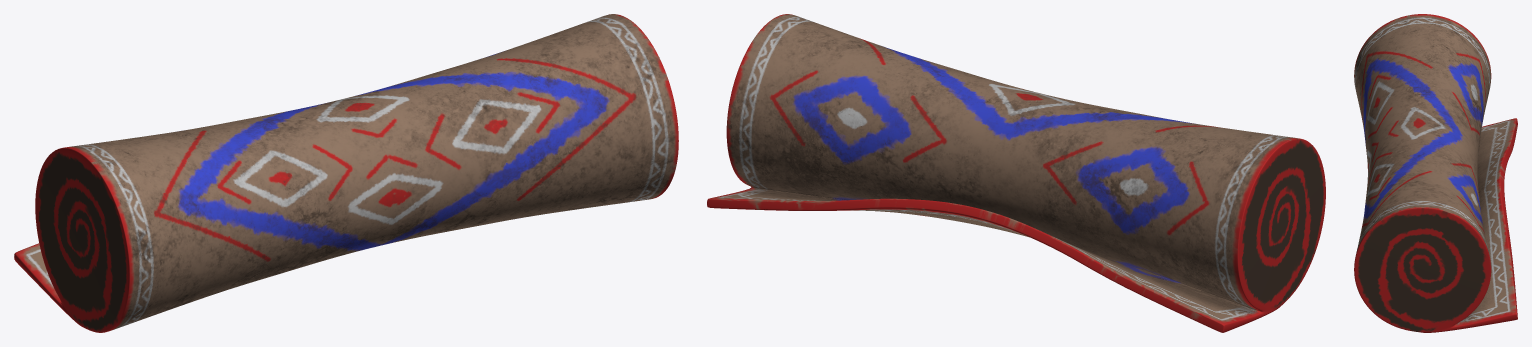
Rendered from Rug textured.fbx.
The picture shows the model from 3 angles, left to right: view 1: azimuth 30°, elevation 25°; view 2: azimuth 150°, elevation 25°; view 3: azimuth 270°, elevation 25°; orthographic projection. The views are drawn at different scales.
Visible parts, largest first — view 1: Rug; view 2: Rug; view 3: Rug.
Part boxes in pixels (left/top/right/bottom): Rug: left=14, top=14, right=678, bottom=332; Rug: left=707, top=14, right=1325, bottom=332; Rug: left=1354, top=14, right=1517, bottom=332.
Bounding box in the file's own units: 20.68 × 6.17 × 7.3.
Materials: 1 (1 with a texture image).
